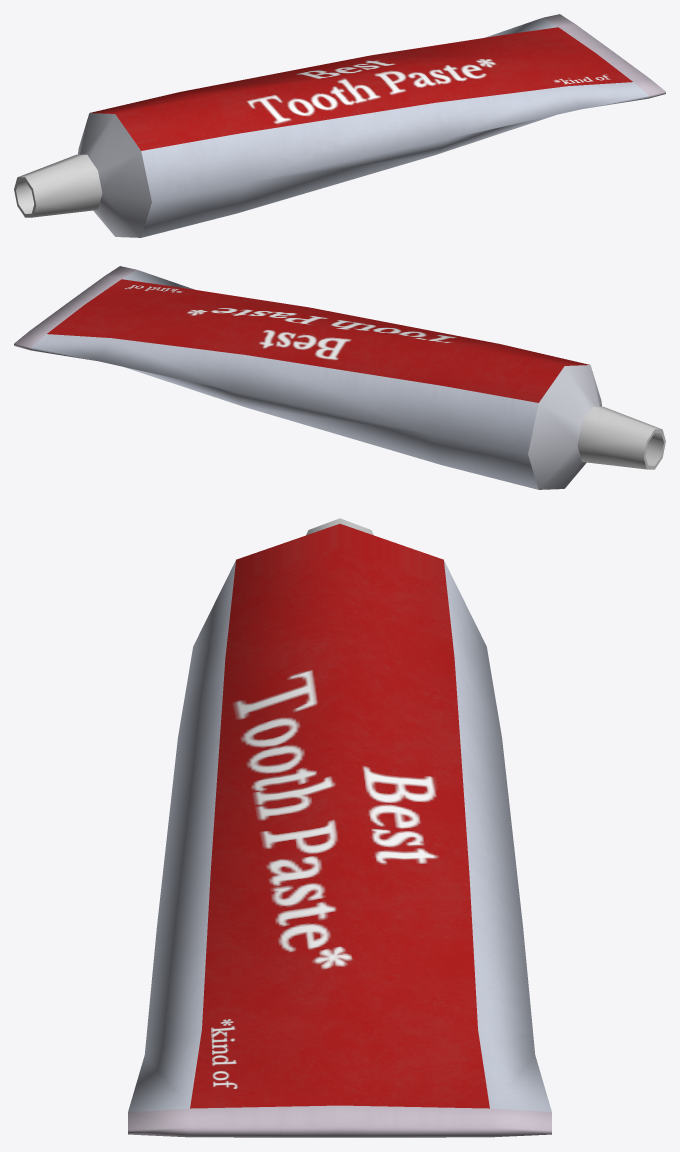
The model's file is tubeLP2Sketchfab.fbx.
The picture shows the model from 3 angles, top to bottom: view 1: azimuth 30°, elevation 25°; view 2: azimuth 150°, elevation 25°; view 3: azimuth 270°, elevation 25°; orthographic projection. The views are drawn at different scales.
Visible parts, largest first — view 1: Cylinder, Cylinder.002; view 2: Cylinder, Cylinder.002; view 3: Cylinder.
Part boxes in pixels (box(x1,y1,x2,y2)): Cylinder: box(78, 14, 665, 237); Cylinder.002: box(14, 154, 102, 217); Cylinder: box(14, 266, 601, 489); Cylinder.002: box(577, 406, 665, 469); Cylinder: box(128, 524, 551, 1137).
Bounding box in the file's own units: 1170 × 234 × 366.
